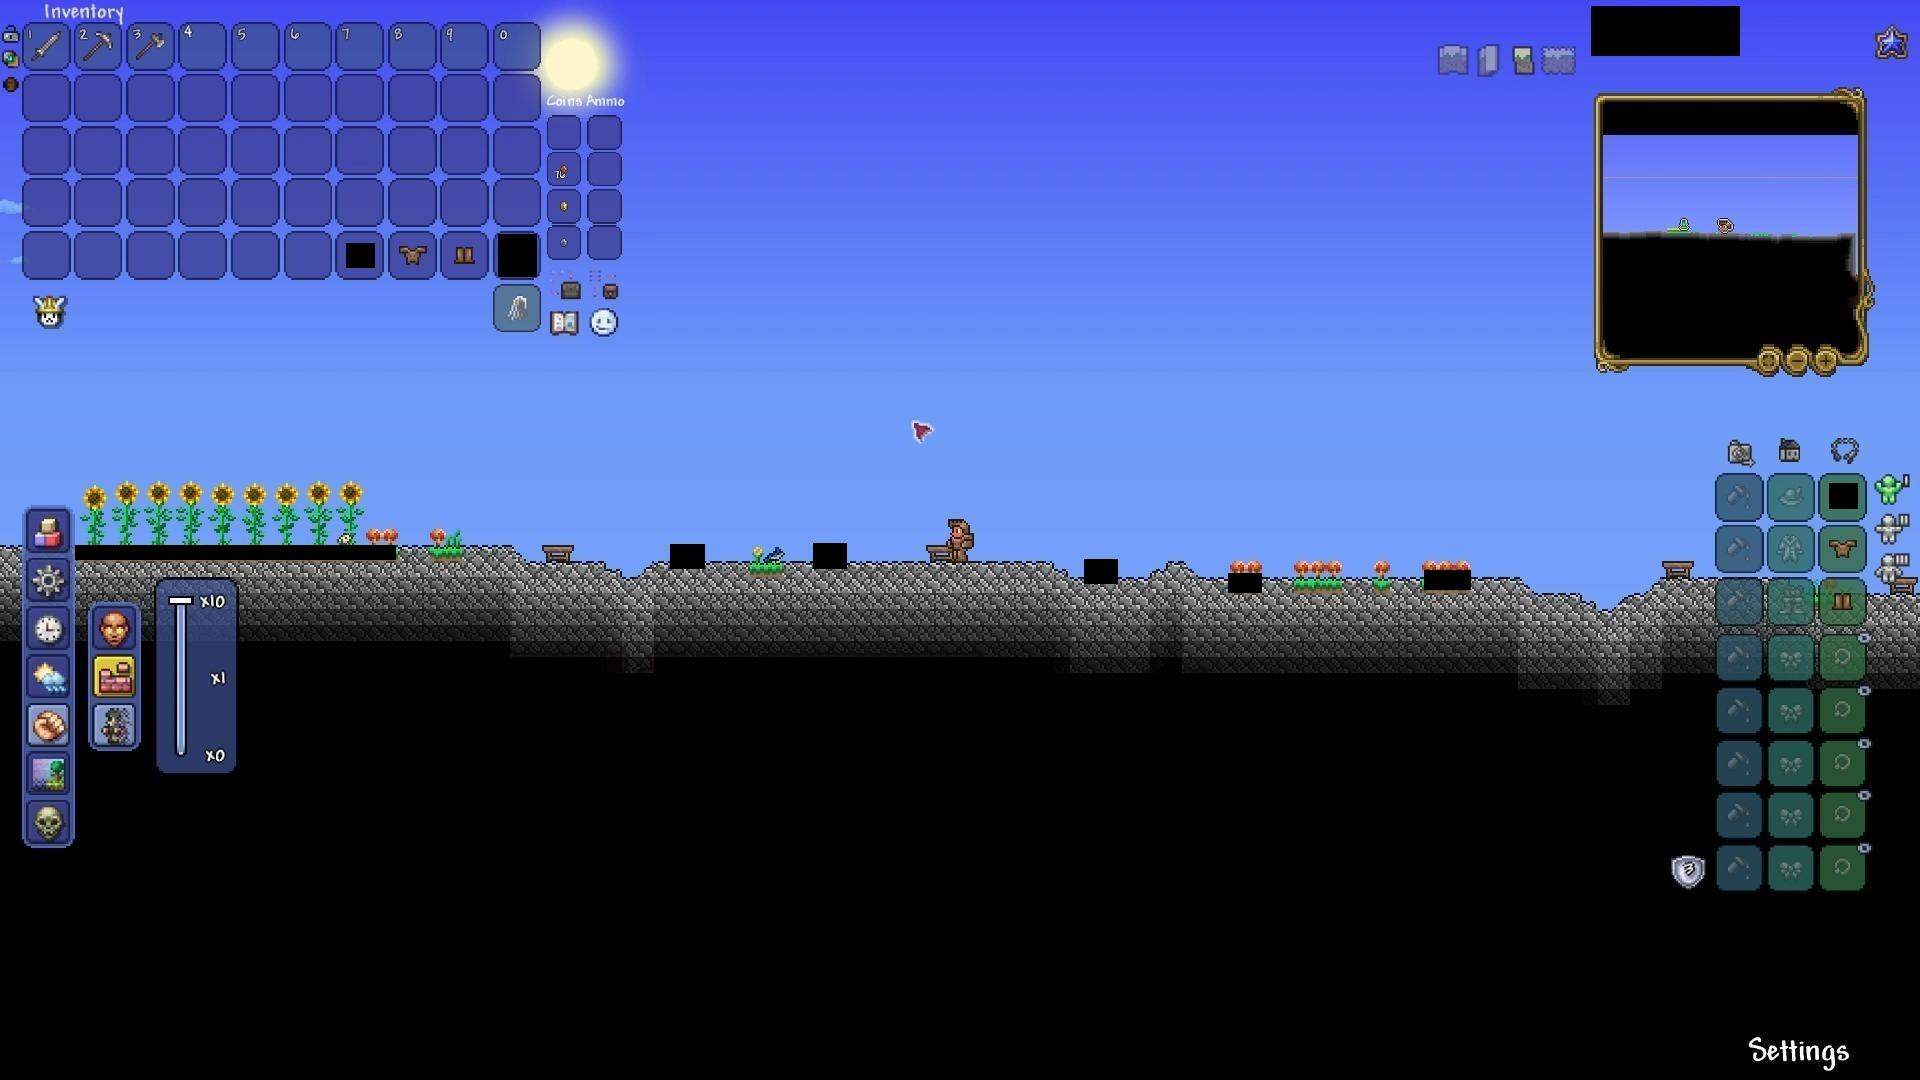breastplate: (396, 243, 430, 264), (1830, 537, 1859, 558)
dirt: (1294, 574, 1340, 592), (749, 559, 782, 576), (430, 543, 462, 560)
legs: (1832, 588, 1857, 615), (451, 241, 476, 265)
workbench: (1662, 555, 1696, 579), (542, 543, 574, 566), (923, 541, 951, 566)
